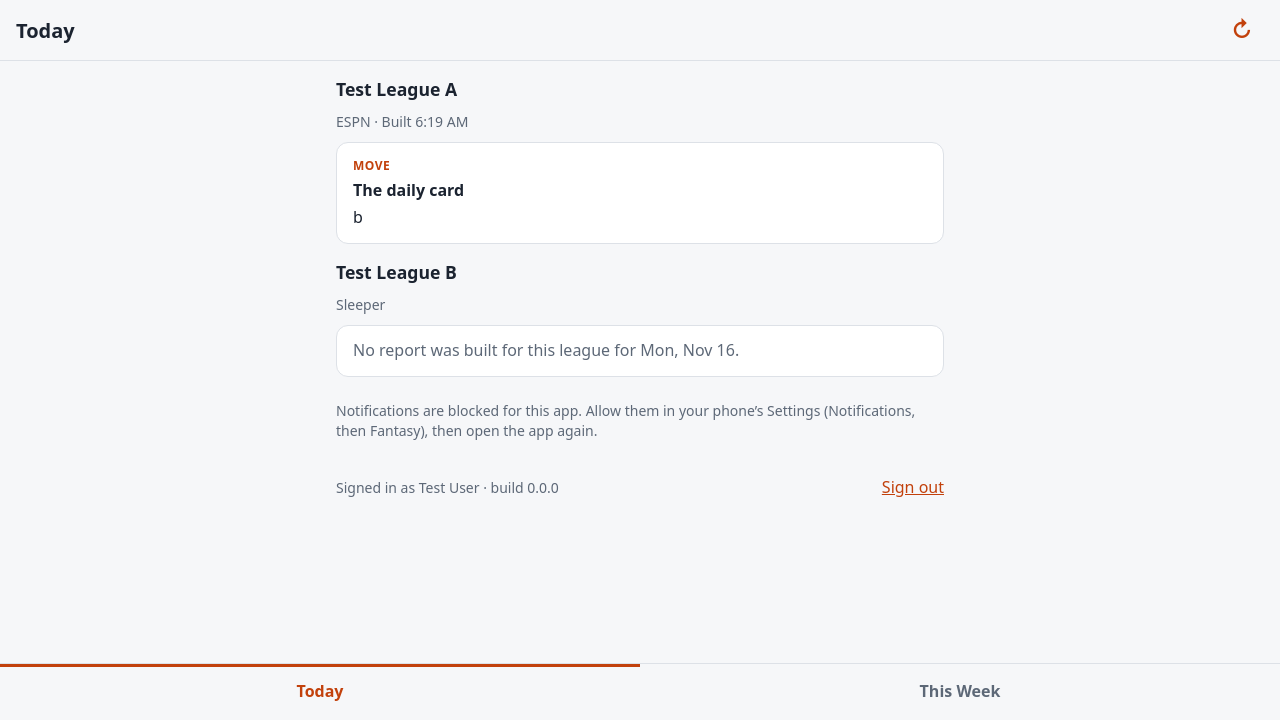
signed in › switches to This Week, which shows the weekly report
Check: the heading "The daily card" is shown, box [353,179,464,201]
Click the link "This Week": coordinates (960, 691) [920,680,1000,702]
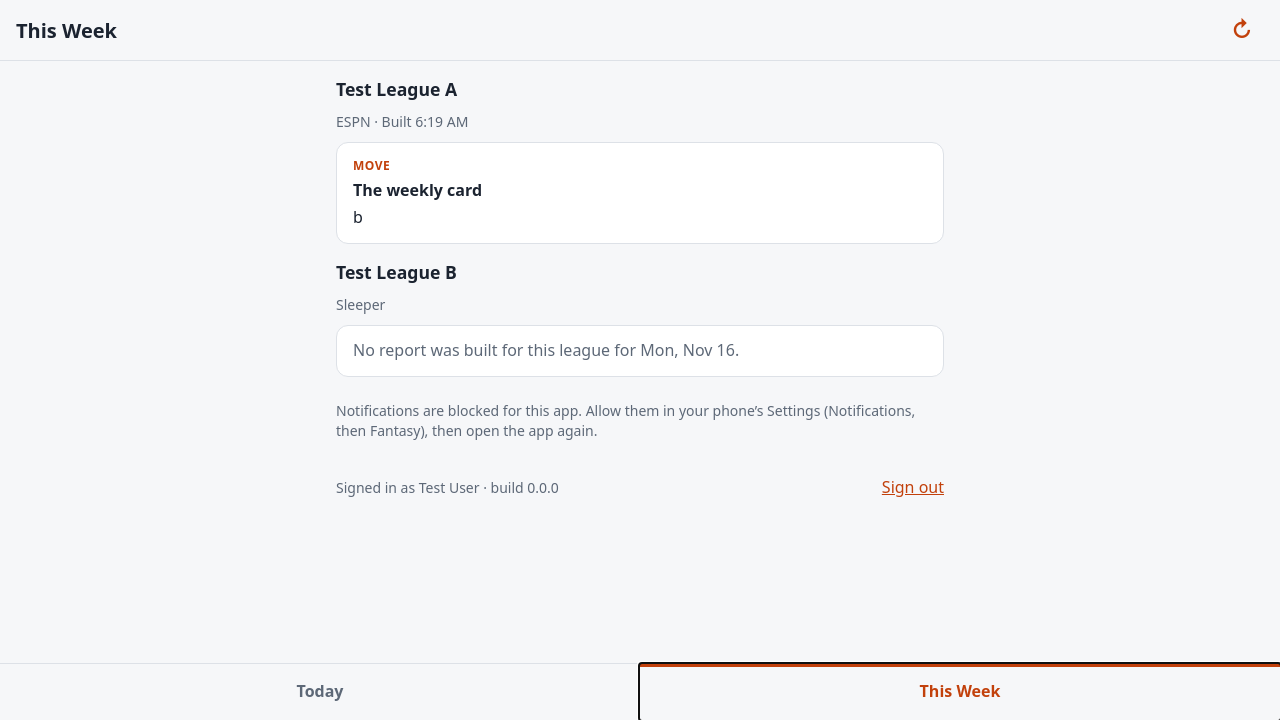
Check: the heading "This Week" is shown, box [16,16,117,44]
Check: the heading "The weekly card" is shown, box [353,179,482,201]
Check: the heading "The daily card" is gone
